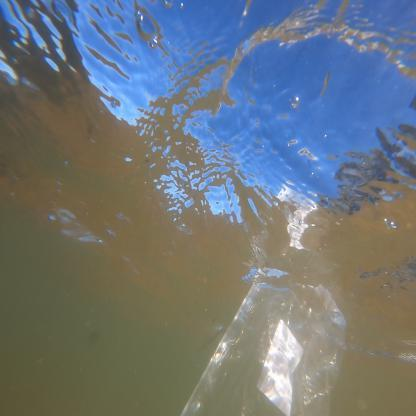Rác: (193, 257, 348, 412)
